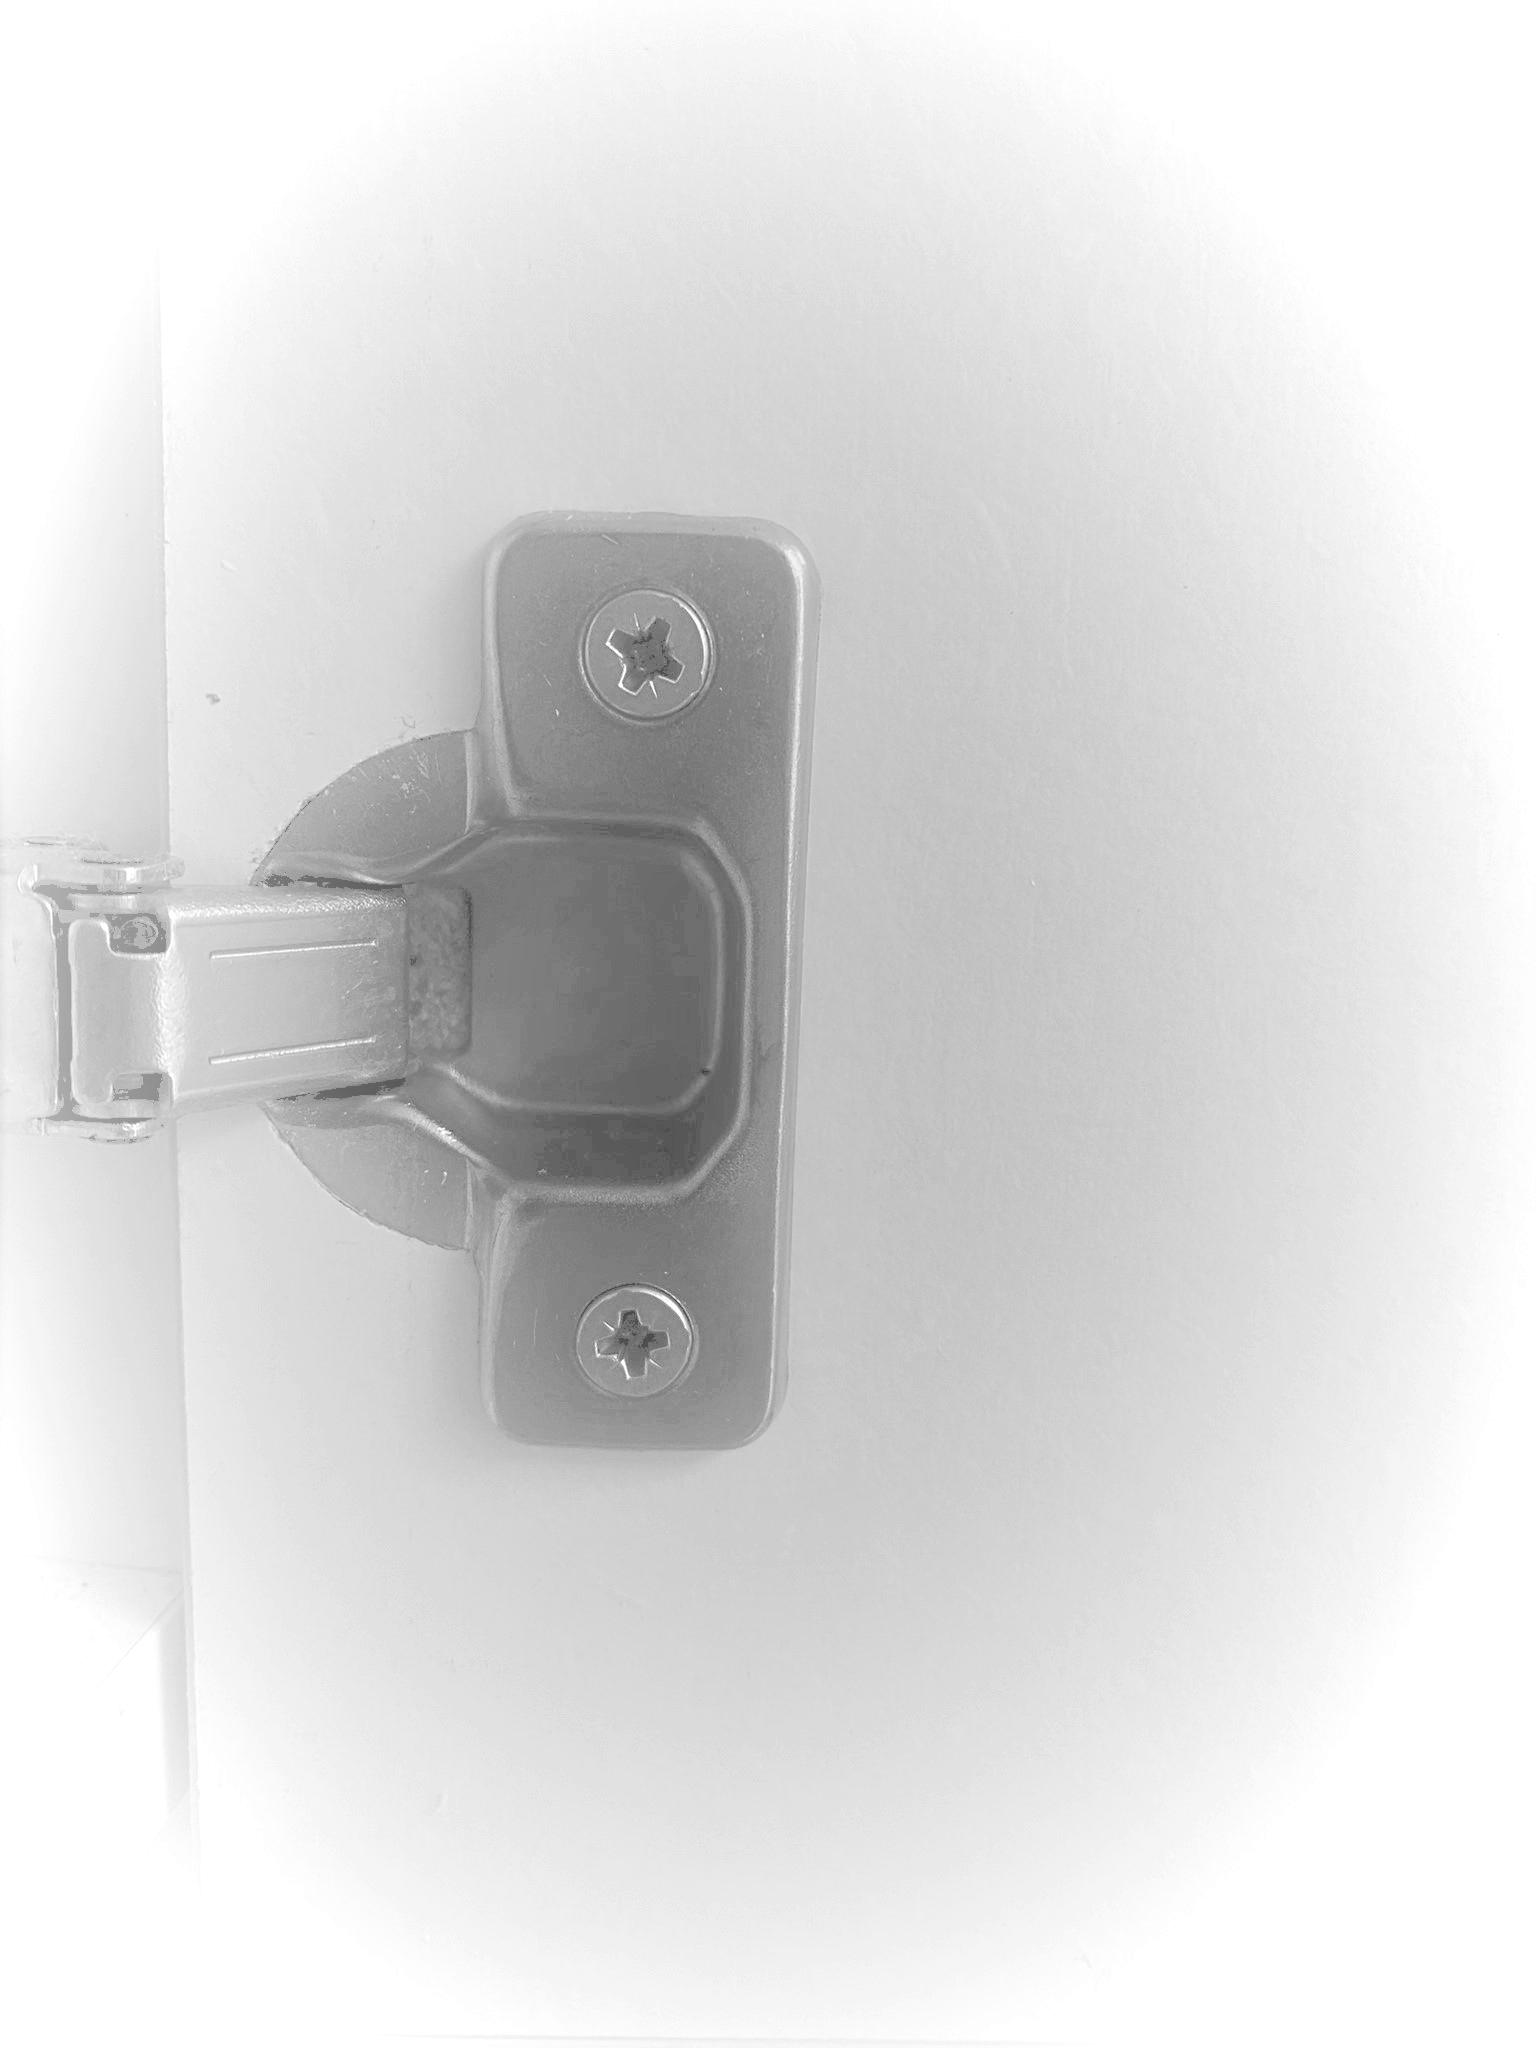philips-PZ: (579, 585, 708, 722), (570, 1282, 695, 1405)
